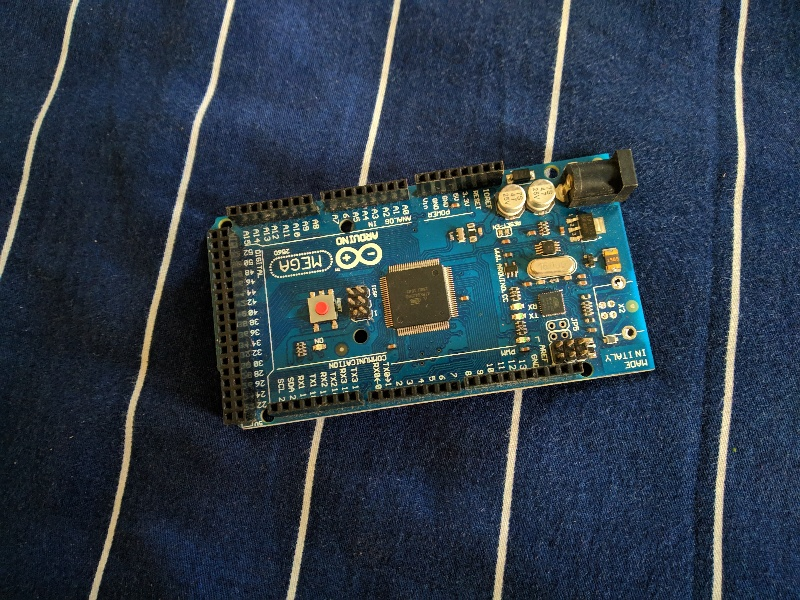Arduino Mega 2560: (198, 144, 666, 438)
